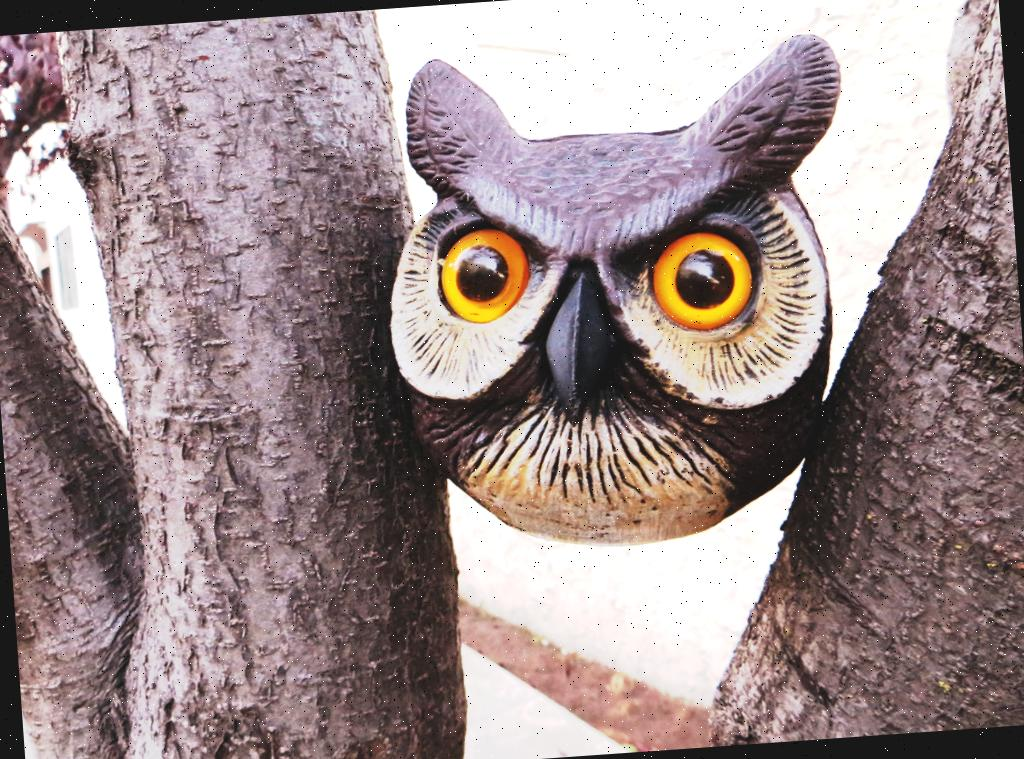Owl: (364, 24, 879, 594)
